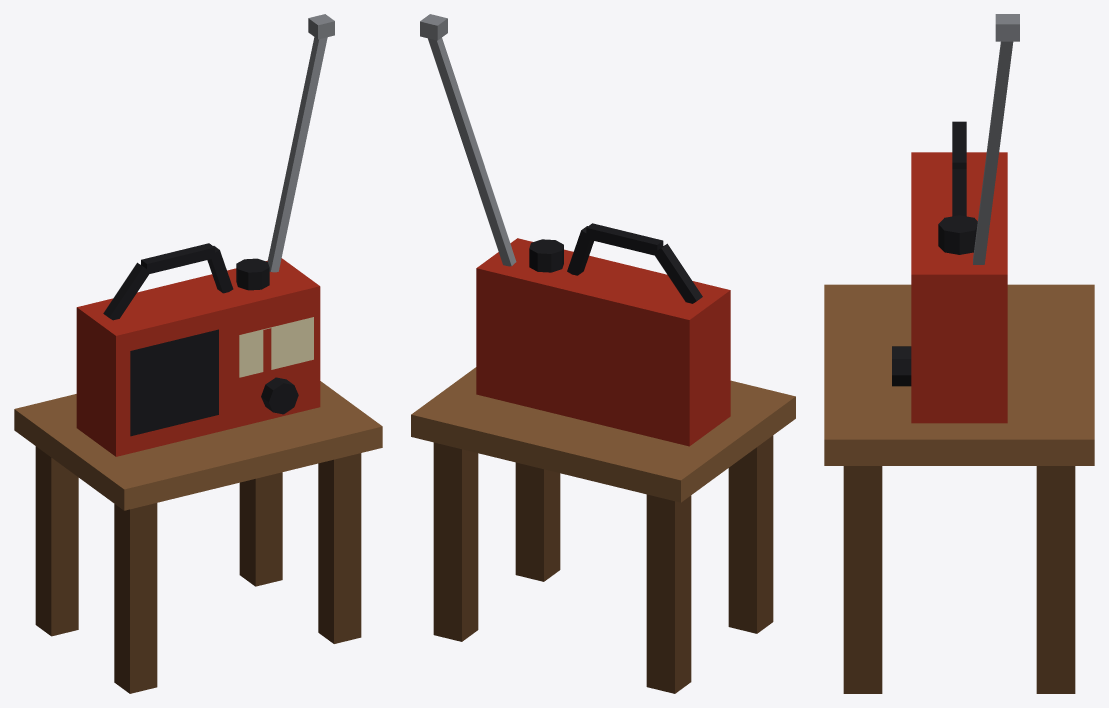
File: prop_radio.2fb03920c0cd.glb
3 renders of one model, left to right at view 1: azimuth 30°, elevation 25°; view 2: azimuth 150°, elevation 25°; view 3: azimuth 270°, elevation 25°, orthographic. The views are drawn at different scales.
Parts seen in each view (by area): view 1: body; view 2: body; view 3: body.
Part boxes in pixels (bbox=[...]): body: bbox=[14, 14, 382, 693]; body: bbox=[411, 14, 795, 693]; body: bbox=[824, 14, 1094, 693].
Size of the model in its own units: 0.4125 by 0.79 by 0.28.
